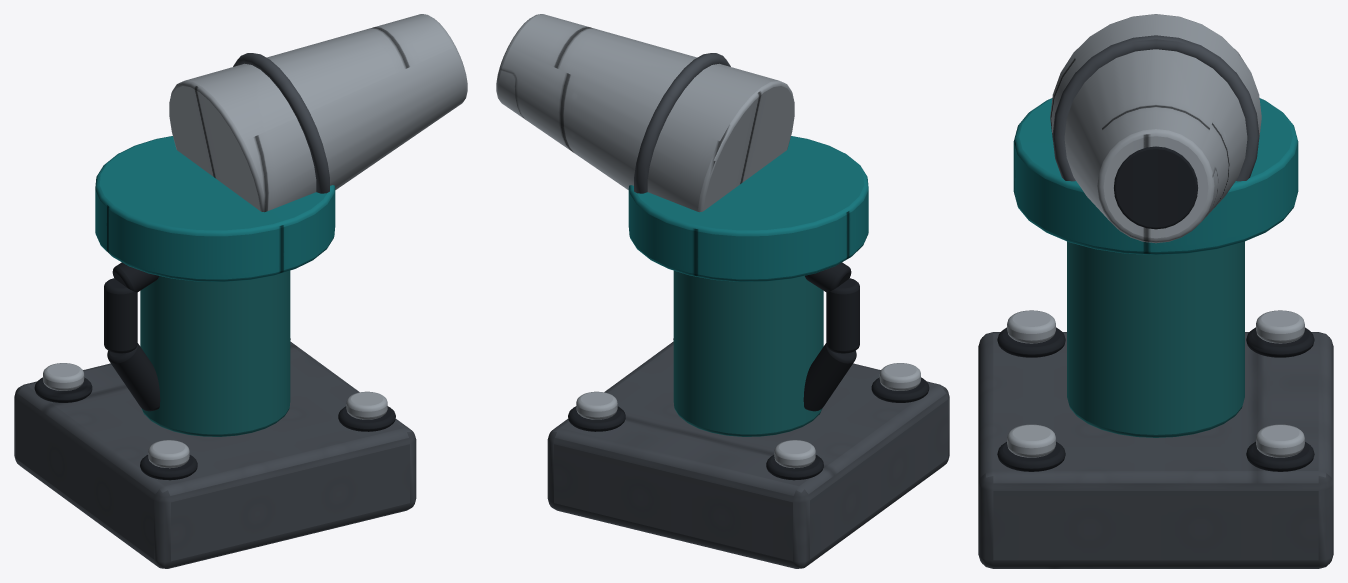
Rendered from ops_fire_suppression_head_lod0.glb.
3 renders of one model, left to right at view 1: azimuth 30°, elevation 25°; view 2: azimuth 150°, elevation 25°; view 3: azimuth 270°, elevation 25°, orthographic. The views are drawn at different scales.
Parts seen in each view (by area): view 1: LOD0_Mechanical, LOD0_MOTION_NOZZLE_YAW_BrushedMetal, LOD0_Livery, LOD0_Armor, LOD0_MechanicalDark, LOD0_BrushedMetal, LOD0_MOTION_NOZZLE_YAW_Mechanical; view 2: LOD0_Mechanical, LOD0_MOTION_NOZZLE_YAW_BrushedMetal, LOD0_Livery, LOD0_Armor, LOD0_MechanicalDark, LOD0_BrushedMetal, LOD0_MOTION_NOZZLE_YAW_Mechanical; view 3: LOD0_Mechanical, LOD0_Armor, LOD0_MOTION_NOZZLE_YAW_BrushedMetal, LOD0_Livery, LOD0_BrushedMetal, LOD0_MOTION_NOZZLE_YAW_MechanicalDark, LOD0_MOTION_NOZZLE_YAW_Mechanical, LOD0_MechanicalDark.
Part boxes in pixels (x1=…): LOD0_Mechanical: x1=14, y1=341, x2=416, y2=568; LOD0_MOTION_NOZZLE_YAW_BrushedMetal: x1=169, y1=14, x2=467, y2=212; LOD0_Livery: x1=95, y1=136, x2=335, y2=281; LOD0_Armor: x1=140, y1=270, x2=290, y2=436; LOD0_MechanicalDark: x1=34, y1=262, x2=395, y2=480; LOD0_BrushedMetal: x1=43, y1=363, x2=387, y2=468; LOD0_MOTION_NOZZLE_YAW_Mechanical: x1=233, y1=53, x2=329, y2=193; LOD0_Mechanical: x1=547, y1=341, x2=949, y2=568; LOD0_MOTION_NOZZLE_YAW_BrushedMetal: x1=496, y1=14, x2=794, y2=212; LOD0_Livery: x1=628, y1=136, x2=868, y2=281; LOD0_Armor: x1=673, y1=270, x2=823, y2=436; LOD0_MechanicalDark: x1=568, y1=262, x2=929, y2=480; LOD0_BrushedMetal: x1=576, y1=363, x2=920, y2=468; LOD0_MOTION_NOZZLE_YAW_Mechanical: x1=634, y1=53, x2=730, y2=193; LOD0_Mechanical: x1=978, y1=332, x2=1333, y2=568; LOD0_Armor: x1=1067, y1=241, x2=1244, y2=437; LOD0_MOTION_NOZZLE_YAW_BrushedMetal: x1=1050, y1=14, x2=1261, y2=243; LOD0_Livery: x1=1013, y1=98, x2=1298, y2=254; LOD0_BrushedMetal: x1=1007, y1=310, x2=1304, y2=457; LOD0_MOTION_NOZZLE_YAW_MechanicalDark: x1=1114, y1=146, x2=1197, y2=229; LOD0_MOTION_NOZZLE_YAW_Mechanical: x1=1052, y1=35, x2=1259, y2=181; LOD0_MechanicalDark: x1=997, y1=327, x2=1314, y2=471.
Bounding box in the file's own units: 1.13 × 1.23 × 0.8.
5 materials, 5 textured.
